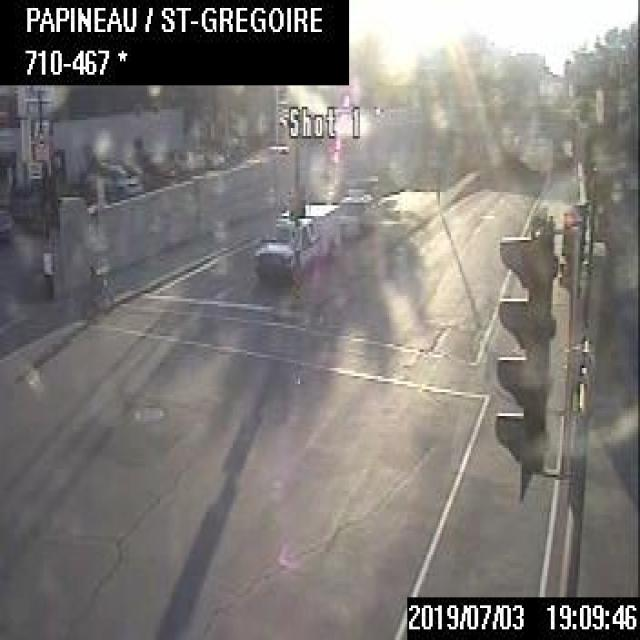vehicle: (251, 198, 337, 276), (88, 156, 143, 198), (336, 191, 372, 240)
